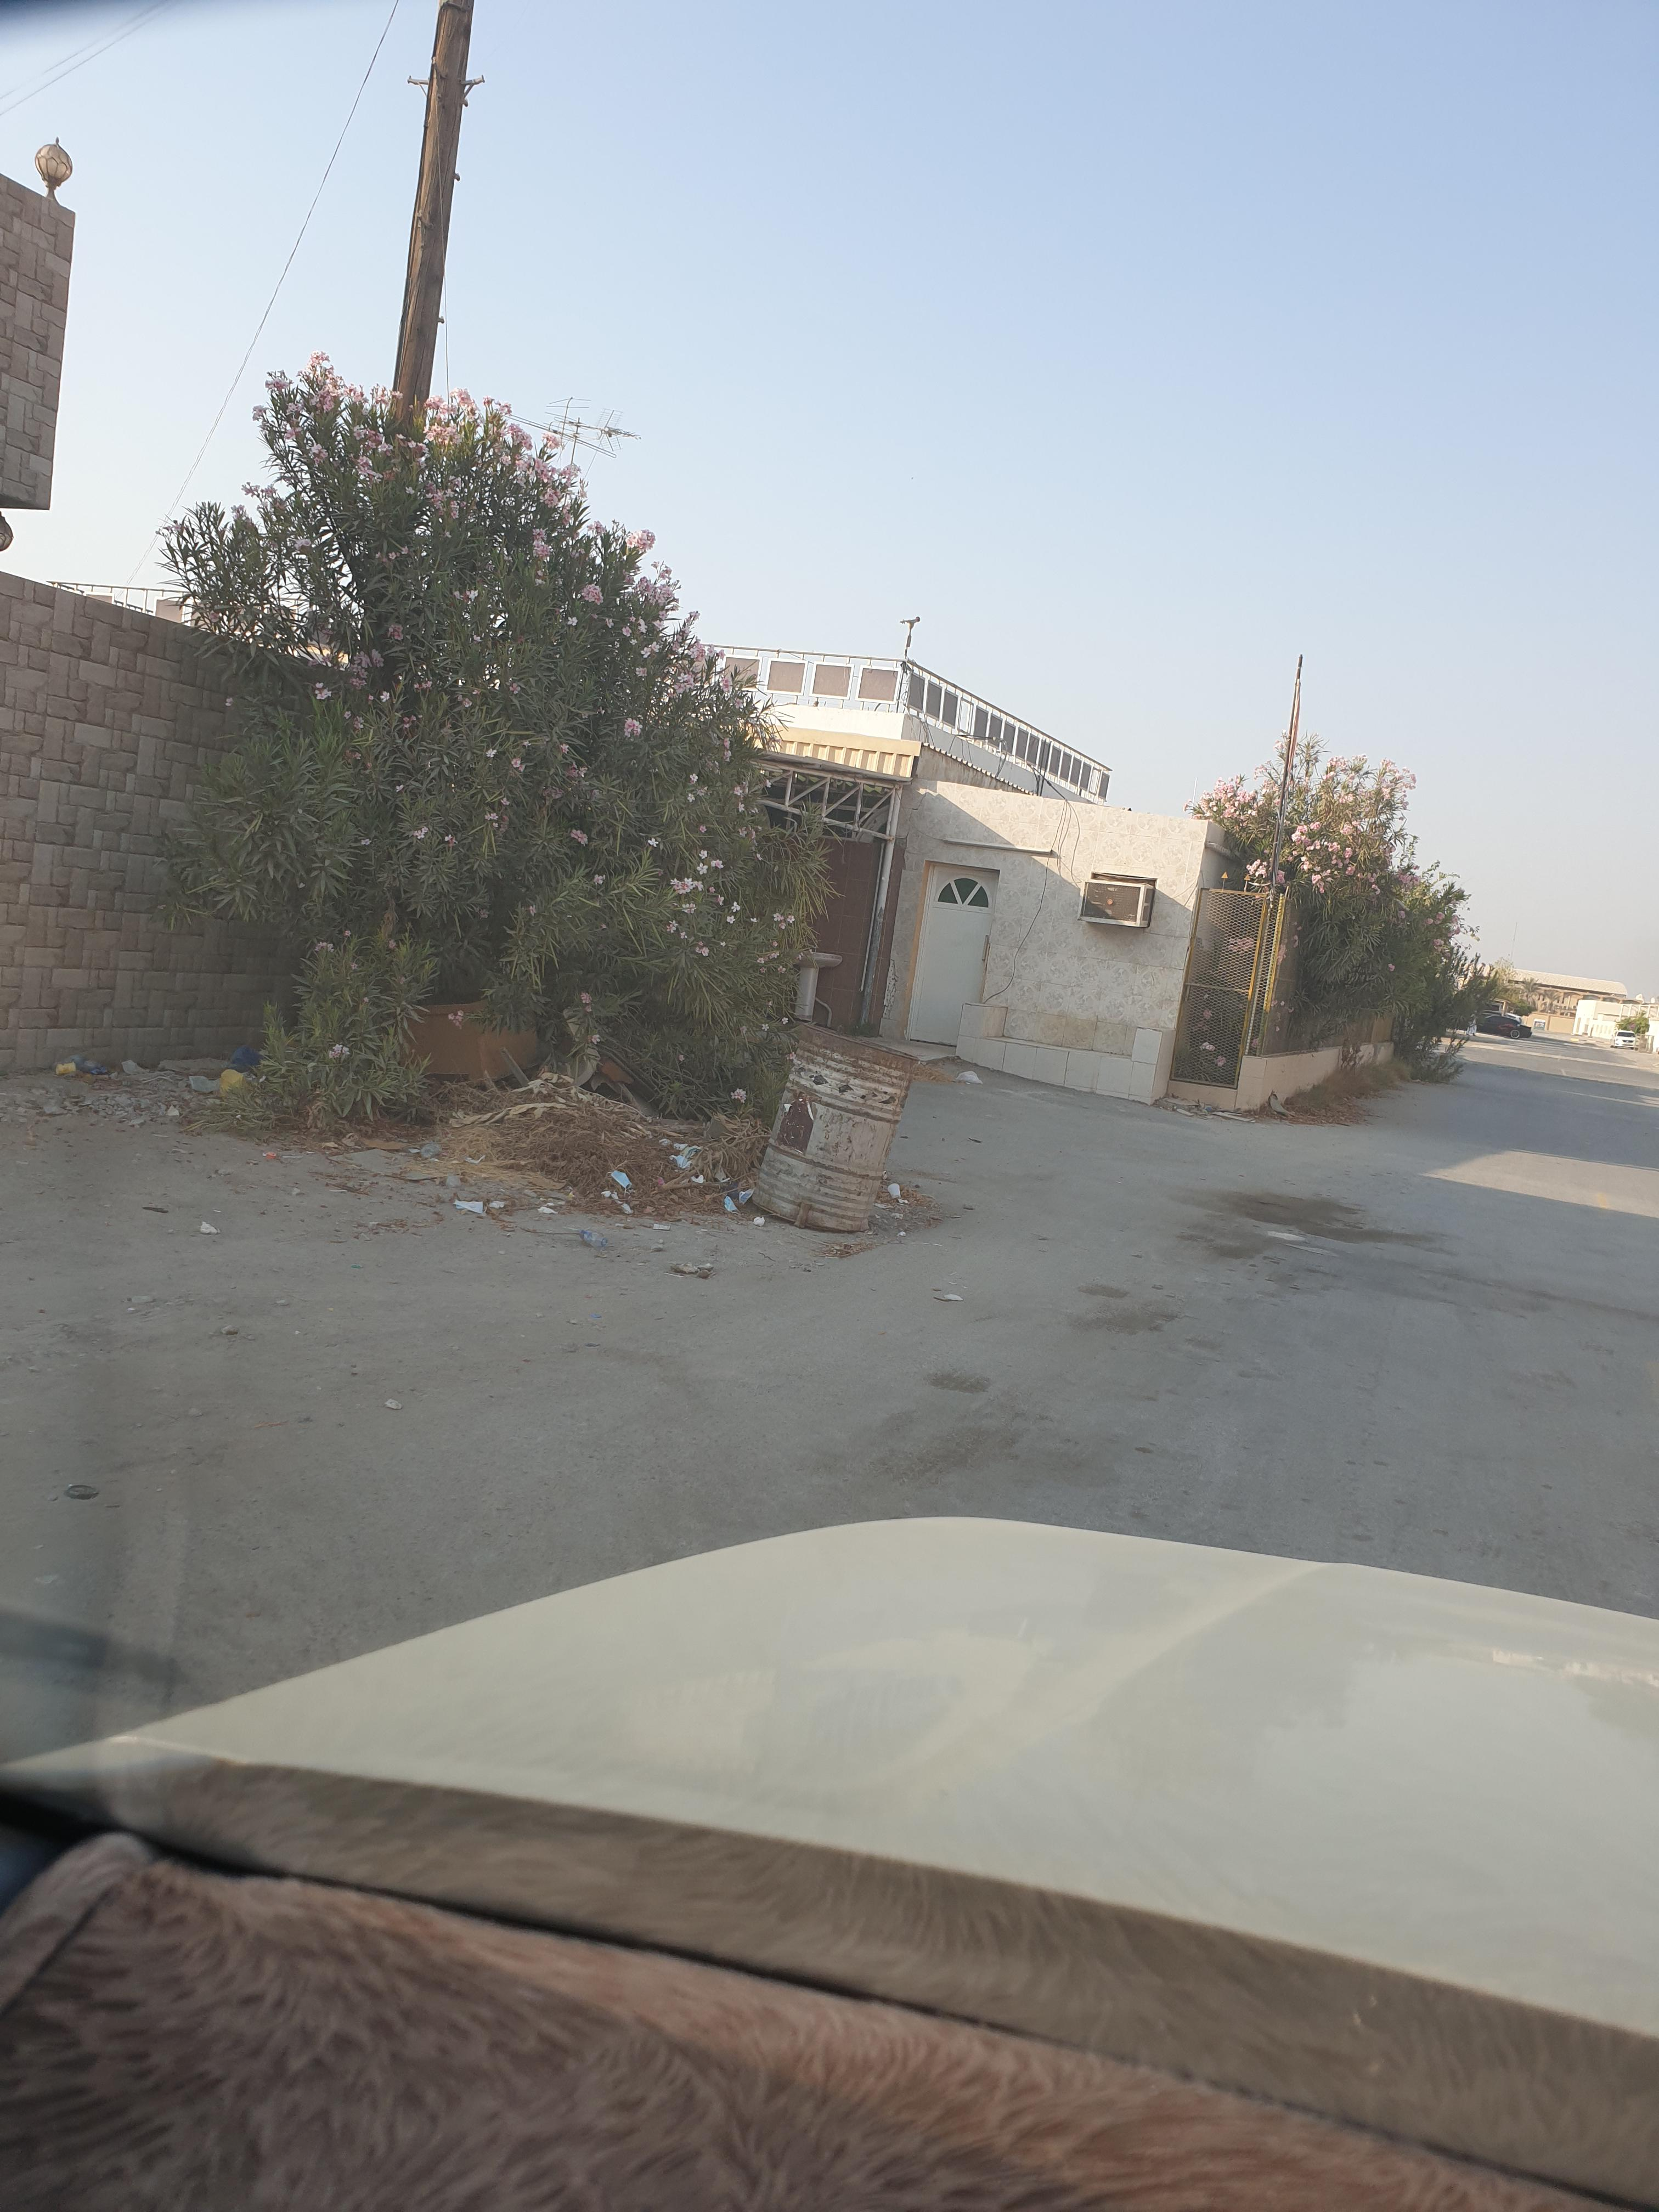fallen_trees: (291, 1085, 742, 1263), (458, 1130, 772, 1252), (533, 1137, 788, 1285)
